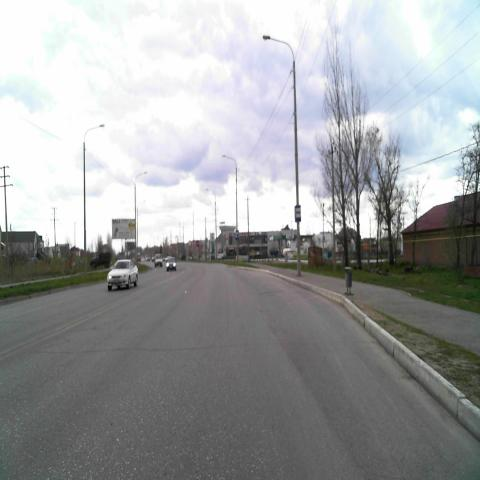5_16: (294, 204, 302, 222)
7_3: (235, 229, 240, 242)
